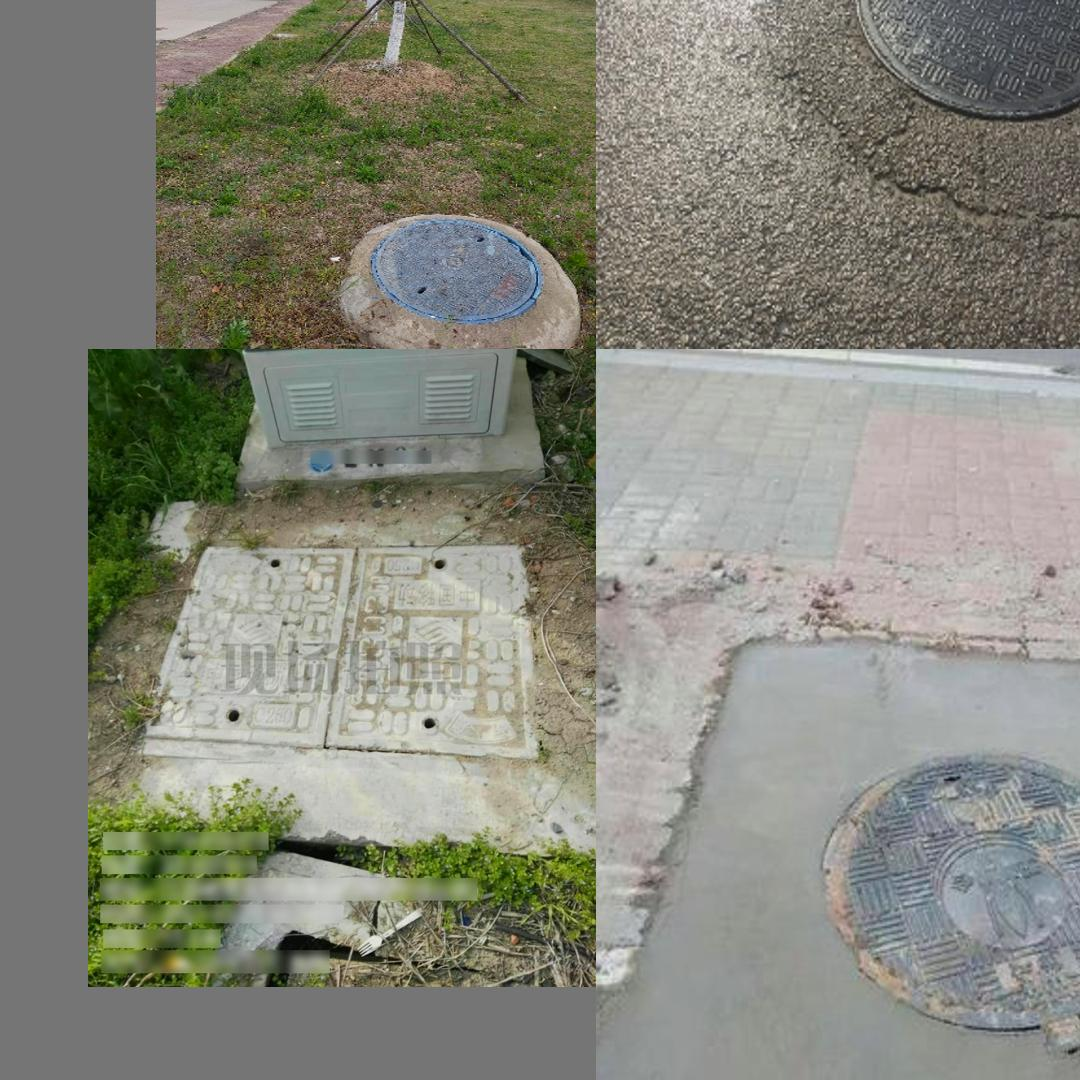good: (623, 633, 1080, 1080), (138, 543, 539, 765), (855, 0, 1080, 120), (368, 212, 544, 323)
